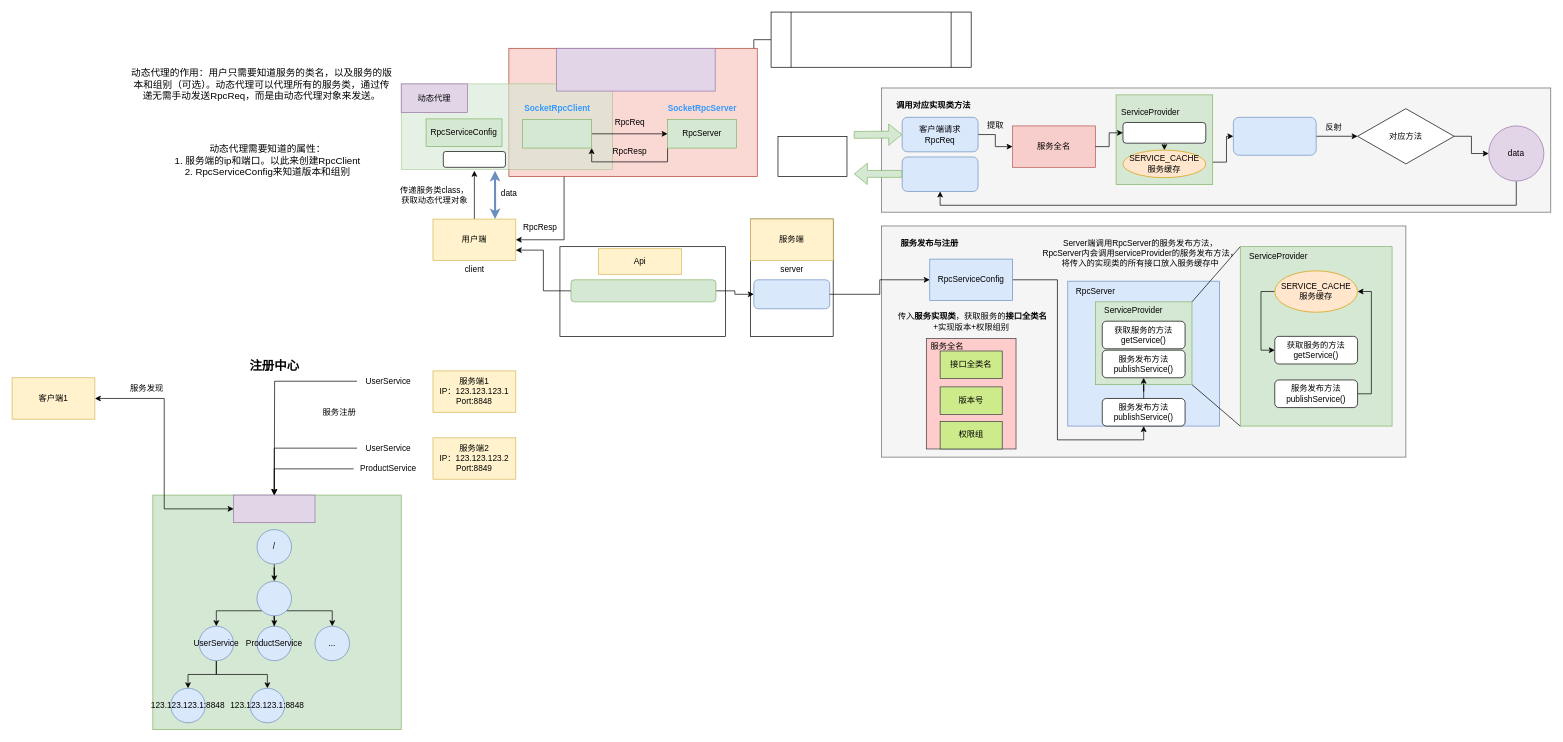
Some shapes in this 1563 by 742 pixel diagram are drawn without their labels. Here are the shapes that lost their labels. From the top down, the box of each, then its label:
(770, 11, 971, 67): 1. 接收客户端的请求，并返回数据。 2. 处理客户端请求 3. 调用对应实现类方法，获取结果 4. 服务发布与注册
(556, 48, 715, 91): RPC框架
(522, 119, 592, 148): RpcClient
(1122, 122, 1206, 143): getService()
(1233, 117, 1316, 155): 相关服务实现类对象
(443, 151, 505, 167): getProxy()
(777, 136, 847, 177): 线程池
(901, 156, 978, 191): 返回数据 RpcResp
(570, 279, 716, 302): User相关服务接口
(753, 279, 830, 309): User相关服务实现类
(233, 494, 315, 523): ZooKeeper
(256, 581, 292, 616): rpc
